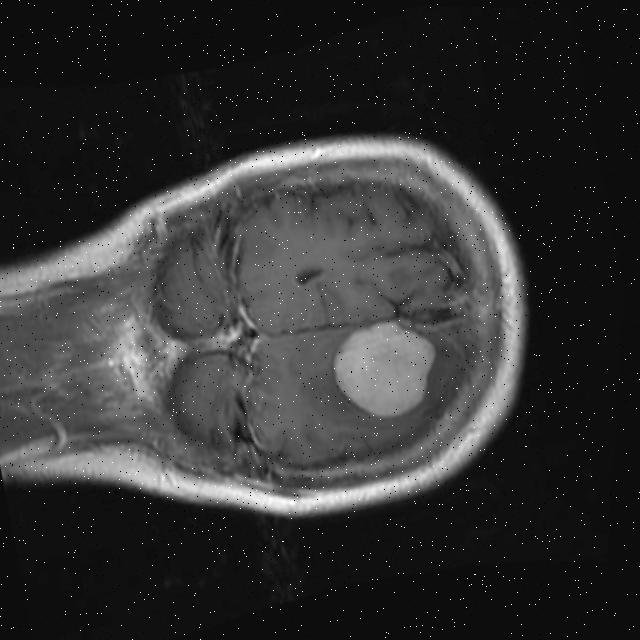Meningioma: (319, 308, 452, 430)
